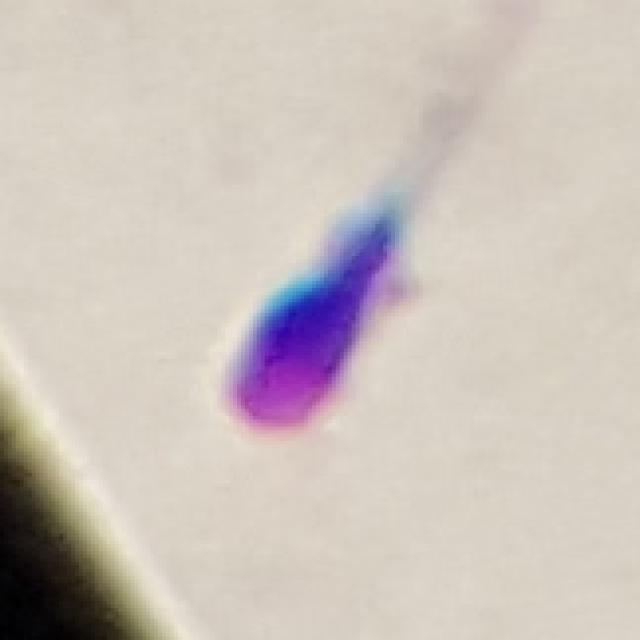abnormal sperm: (188, 6, 495, 464)
